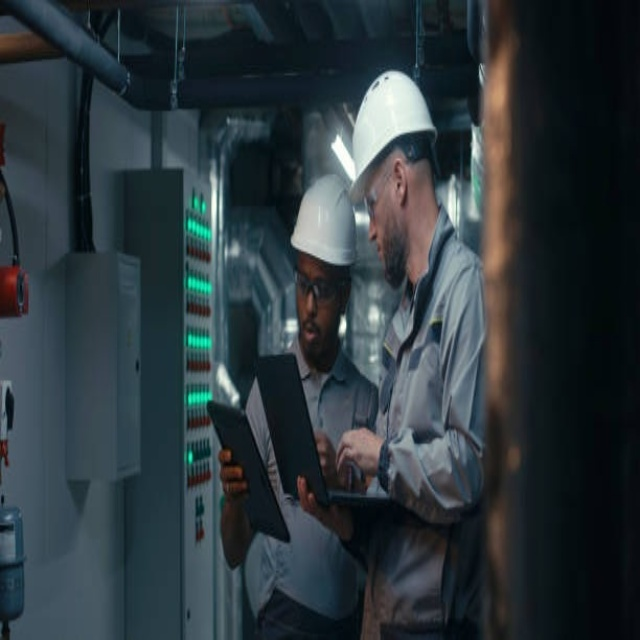Gafas: (363, 160, 403, 221), (294, 267, 346, 305)
Sin_guantes: (299, 476, 358, 541), (330, 427, 381, 492), (218, 445, 250, 505)
Sin_mascara: (371, 230, 395, 279), (297, 313, 321, 359)
